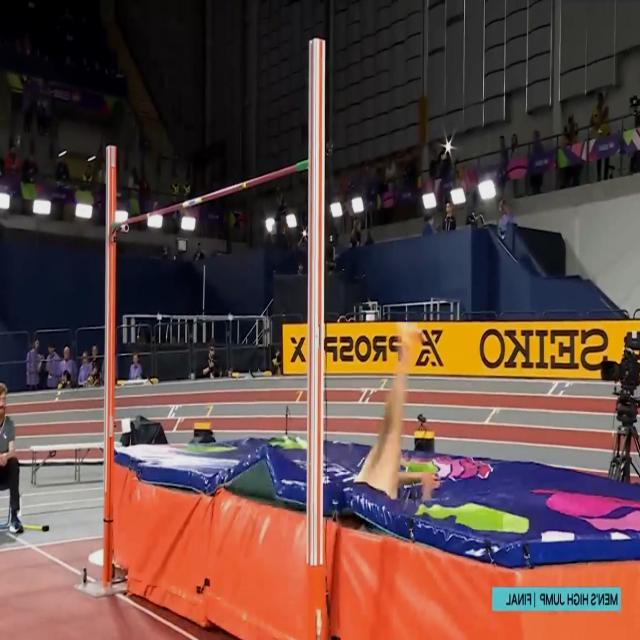land: (340, 306, 421, 498)
